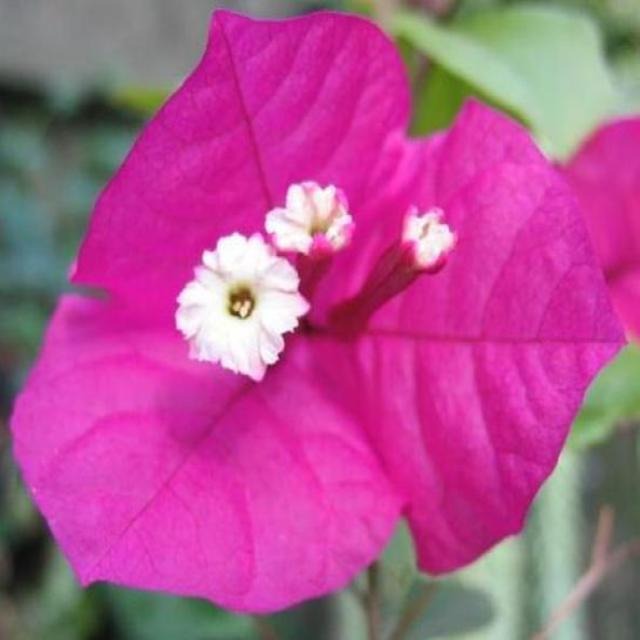bougainvillea: (20, 18, 640, 639)
